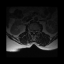CCS_normal: (33, 29, 34, 35)
LFS_stenosis: (36, 29, 38, 33)
LLS_stenosis: (35, 29, 36, 33)
RFS_normal: (30, 29, 31, 33)
RLS_normal: (31, 29, 33, 33)
